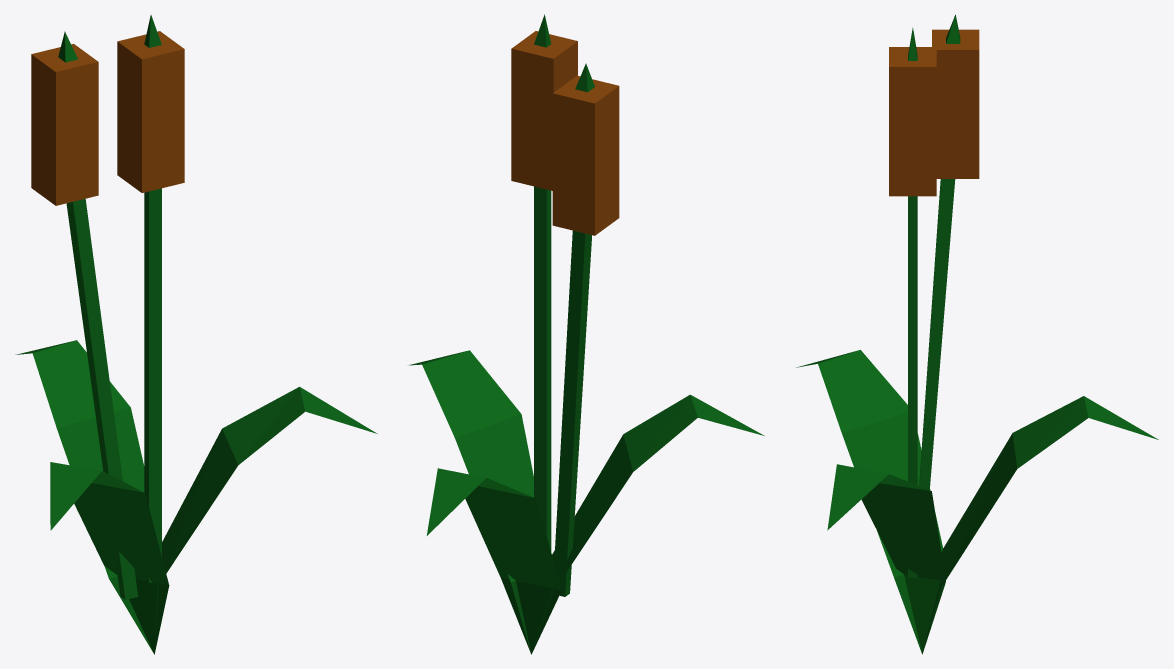
The model's file is obj_tall_reeds_0.obj.
3 views of the same model, side by side, from view 1: azimuth 30°, elevation 25°; view 2: azimuth 150°, elevation 25°; view 3: azimuth 270°, elevation 25° (orthographic). The views are drawn at different scales.
Bounding box in the file's own units: 0.6328 × 1.13 × 0.6016.
